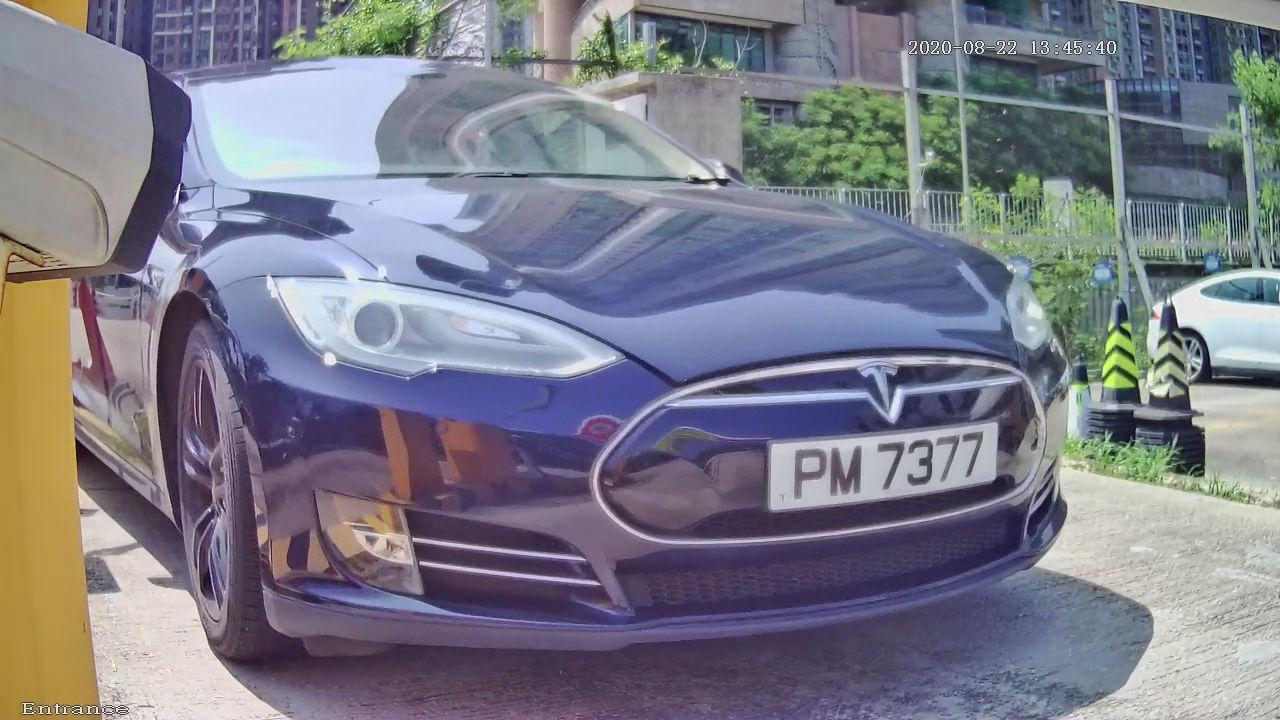License Plate: (703, 370, 1045, 541)
